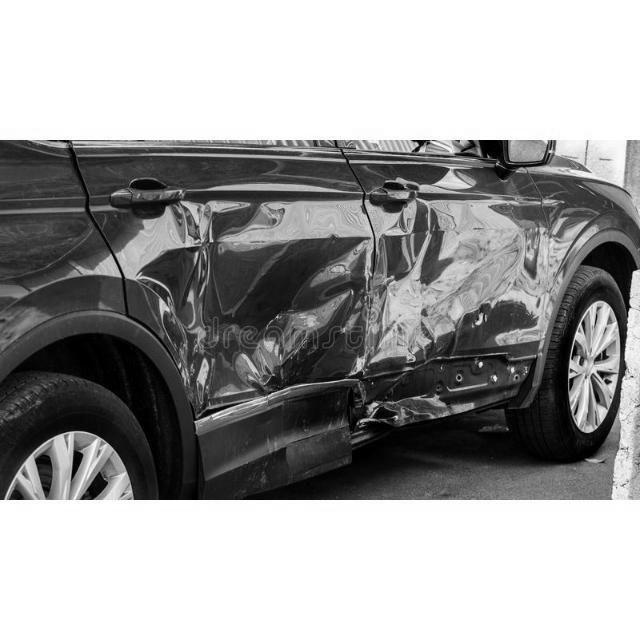doorouter-dent: (59, 150, 351, 408), (352, 155, 544, 364)
